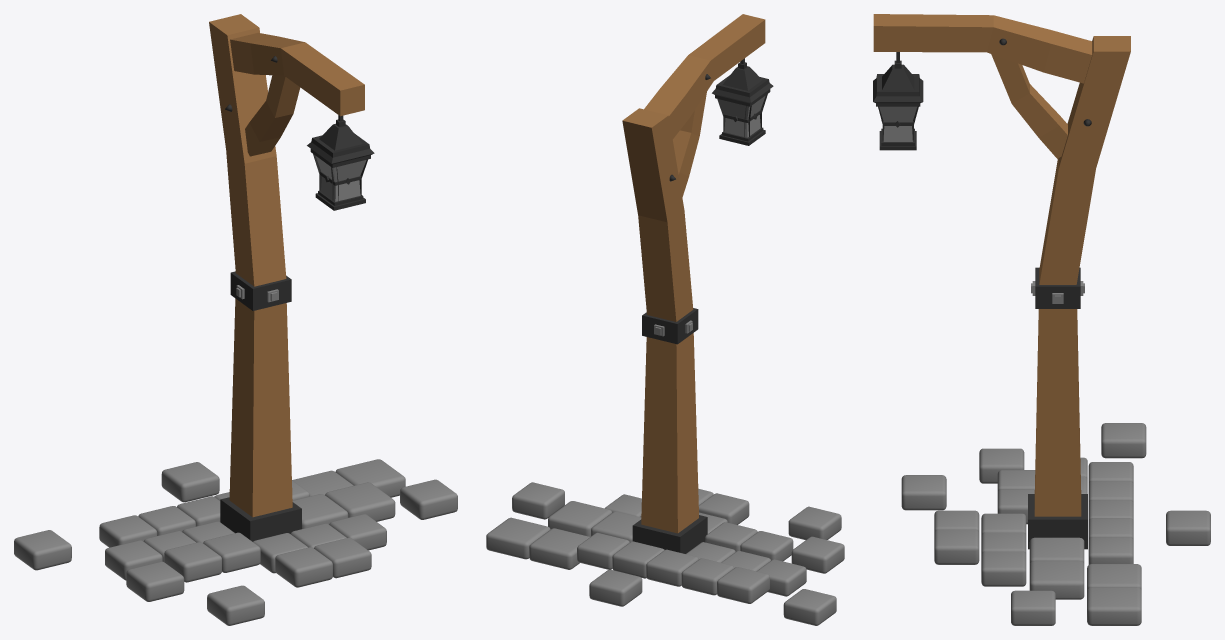
File: PFE-Props-Lanterene.fbx
3 views of the same model, side by side, from view 1: azimuth 30°, elevation 25°; view 2: azimuth 150°, elevation 25°; view 3: azimuth 270°, elevation 25° (orthographic). The views are drawn at different scales.
Parts seen in each view (by area): view 1: Cube.002; view 2: Cube.002; view 3: Cube.002.
Boxes of the visible parts, x1,y1,x2,y2 form: Cube.002: [14, 14, 457, 625]; Cube.002: [486, 14, 844, 625]; Cube.002: [873, 14, 1210, 625].
Bounding box in the file's own units: 259 × 342 × 198.
